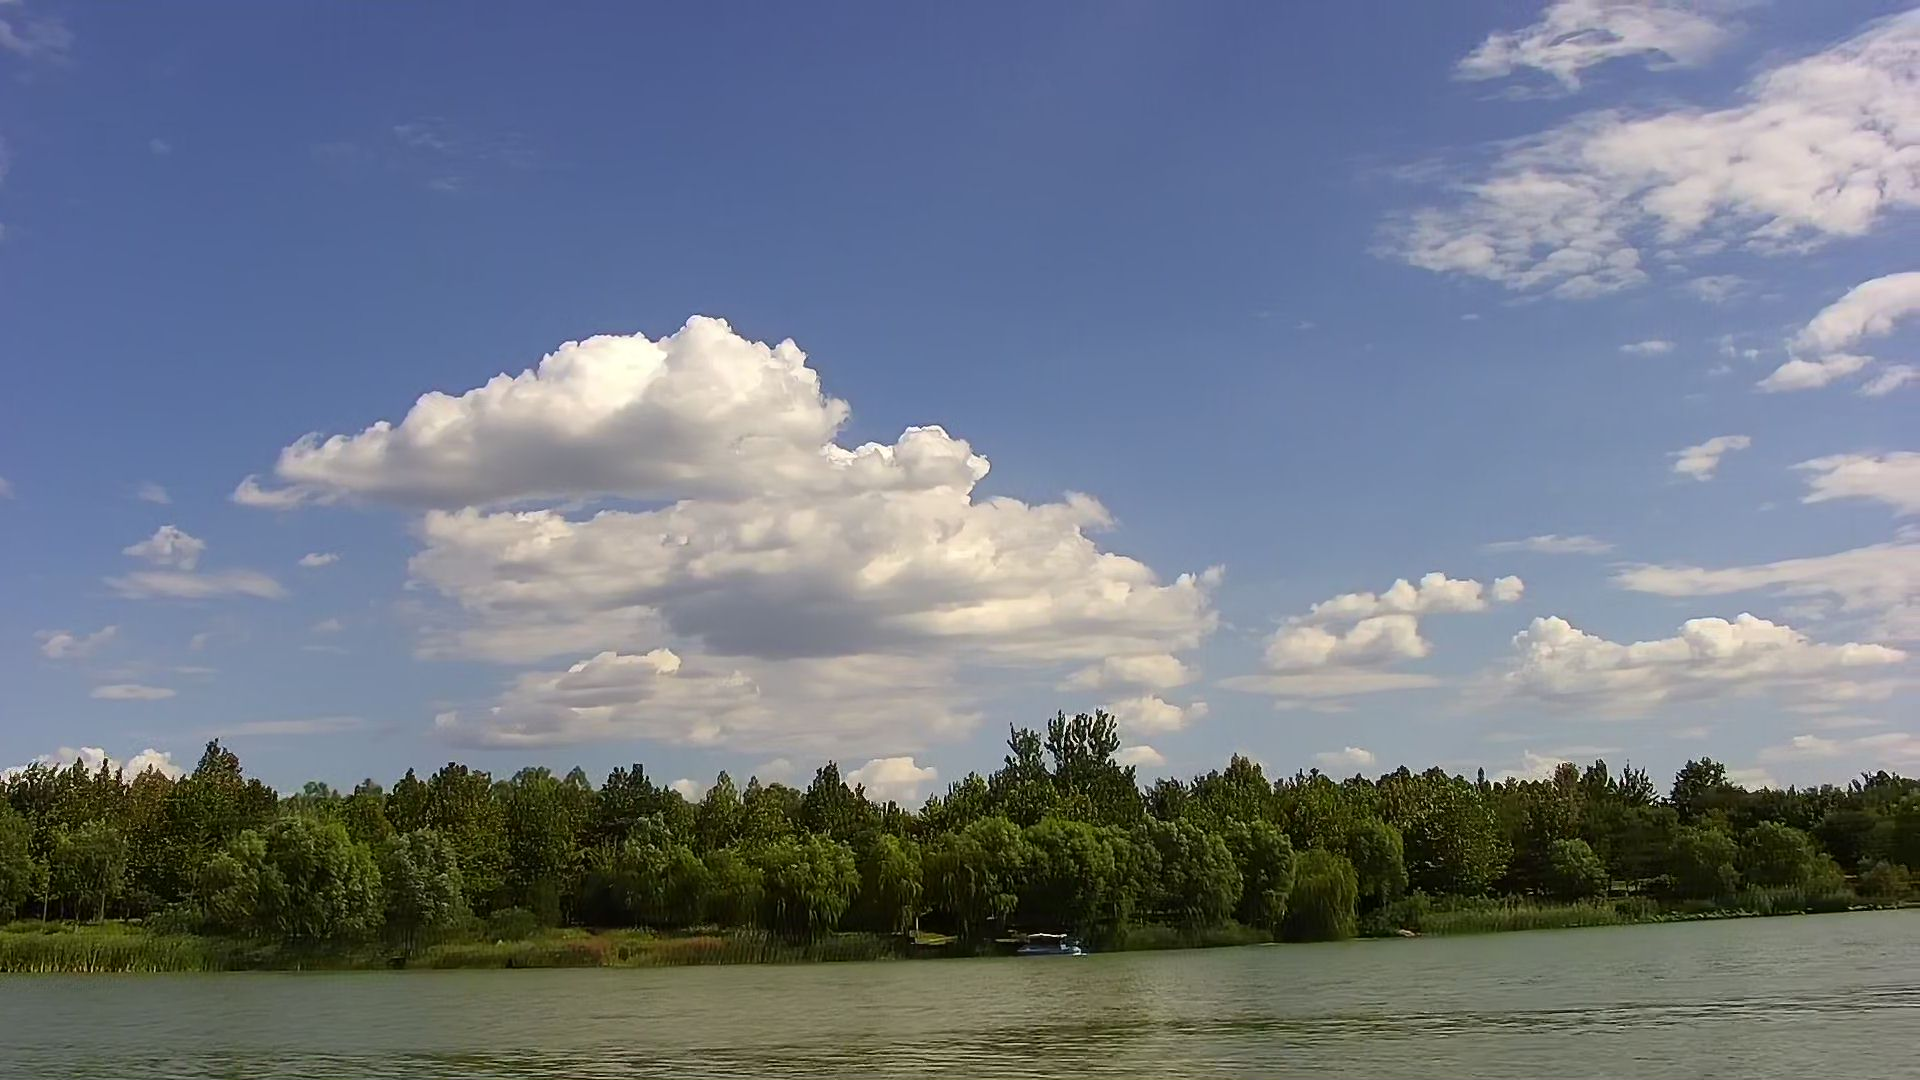boat: (1010, 930, 1087, 959)
